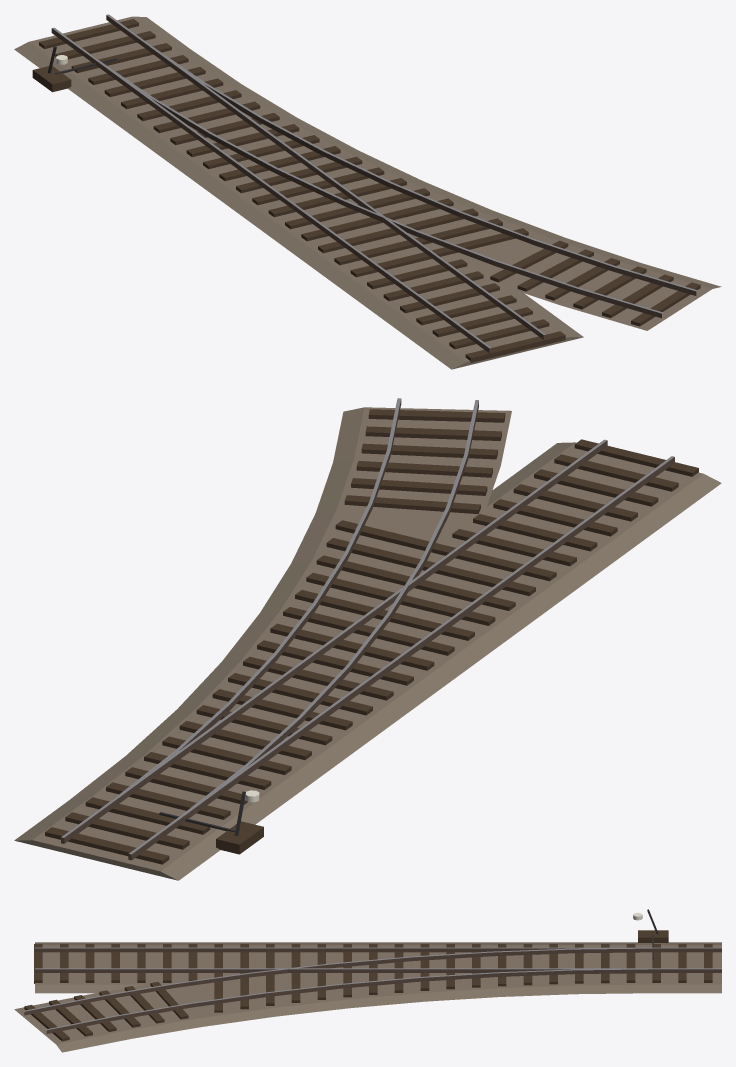
File: track_points.glb
3 renders of one model, top to bottom at view 1: azimuth 30°, elevation 25°; view 2: azimuth 150°, elevation 25°; view 3: azimuth 270°, elevation 25°, orthographic. The views are drawn at different scales.
Parts seen in each view (by area): view 1: Body; view 2: Body; view 3: Body.
Part boxes in pixels (x1,y1,x2,y2): Body: (14, 14, 721, 369); Body: (14, 398, 721, 880); Body: (14, 909, 721, 1052).
Size of the model in its own units: 7.99 by 0.9813 by 20.61.
